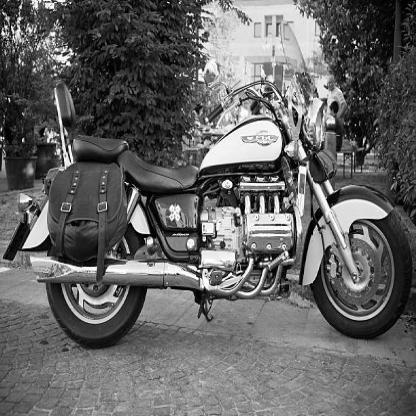Motorcycle: (0, 43, 415, 346)
